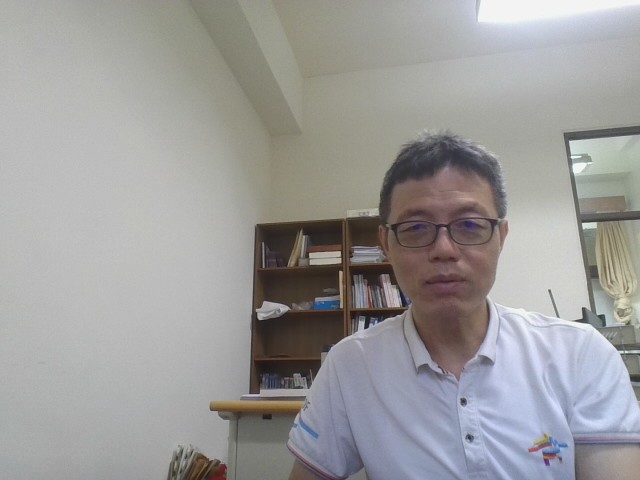No_Helmet: (376, 130, 510, 324)
person: (267, 115, 638, 480)
